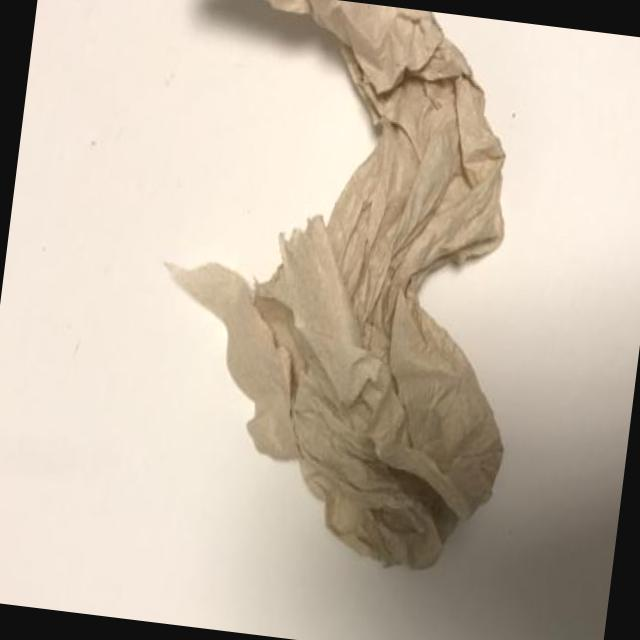giay: (163, 0, 507, 574)
